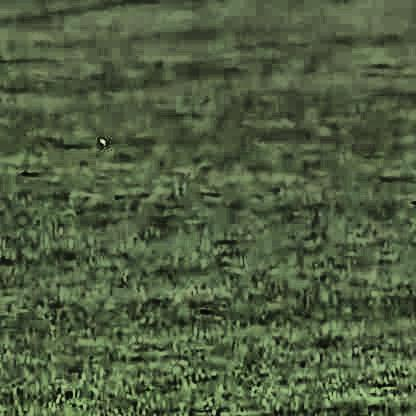golfball: (94, 134, 104, 144)
